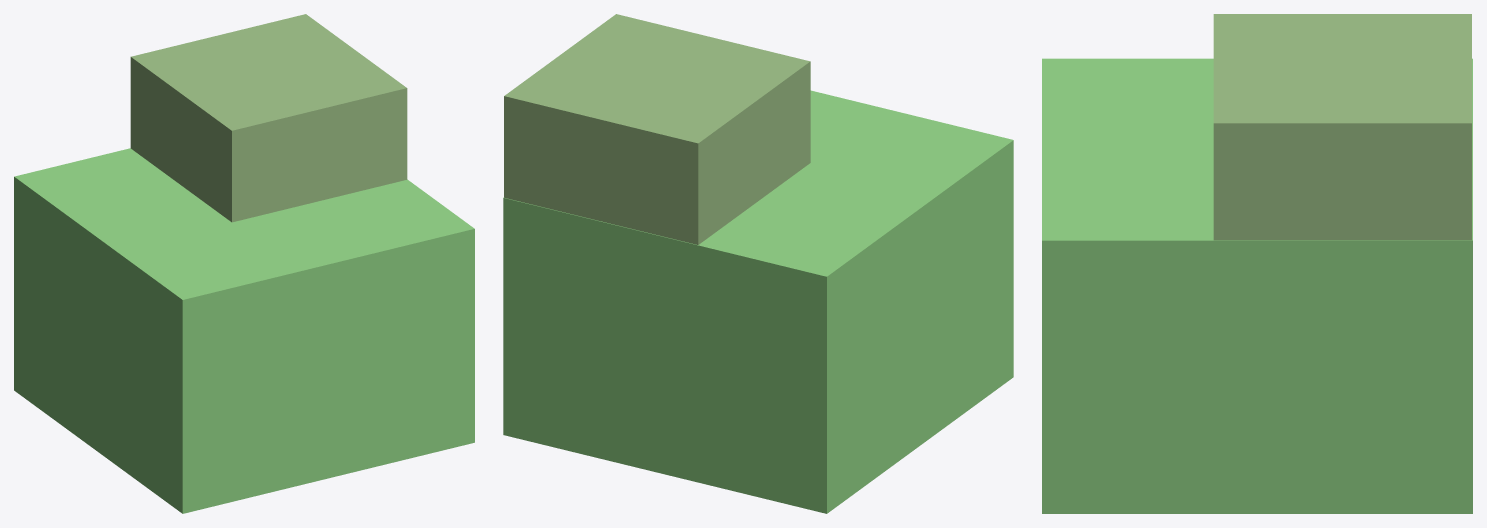
Rendered from Prop_Dress_AMF_Bush_V10.glb.
3 views of the same model, side by side, from view 1: azimuth 30°, elevation 25°; view 2: azimuth 150°, elevation 25°; view 3: azimuth 270°, elevation 25° (orthographic). The views are drawn at different scales.
Visible parts, largest first — view 1: Prop_Dress_AMF_Bush_V10; view 2: Prop_Dress_AMF_Bush_V10; view 3: Prop_Dress_AMF_Bush_V10.
Boxes of the visible parts, x1=… form: Prop_Dress_AMF_Bush_V10: x1=14, y1=14, x2=474, y2=513; Prop_Dress_AMF_Bush_V10: x1=503, y1=14, x2=1013, y2=513; Prop_Dress_AMF_Bush_V10: x1=1042, y1=14, x2=1472, y2=513.
Size of the model in its own units: 0.5046 by 0.5046 by 0.5046.
